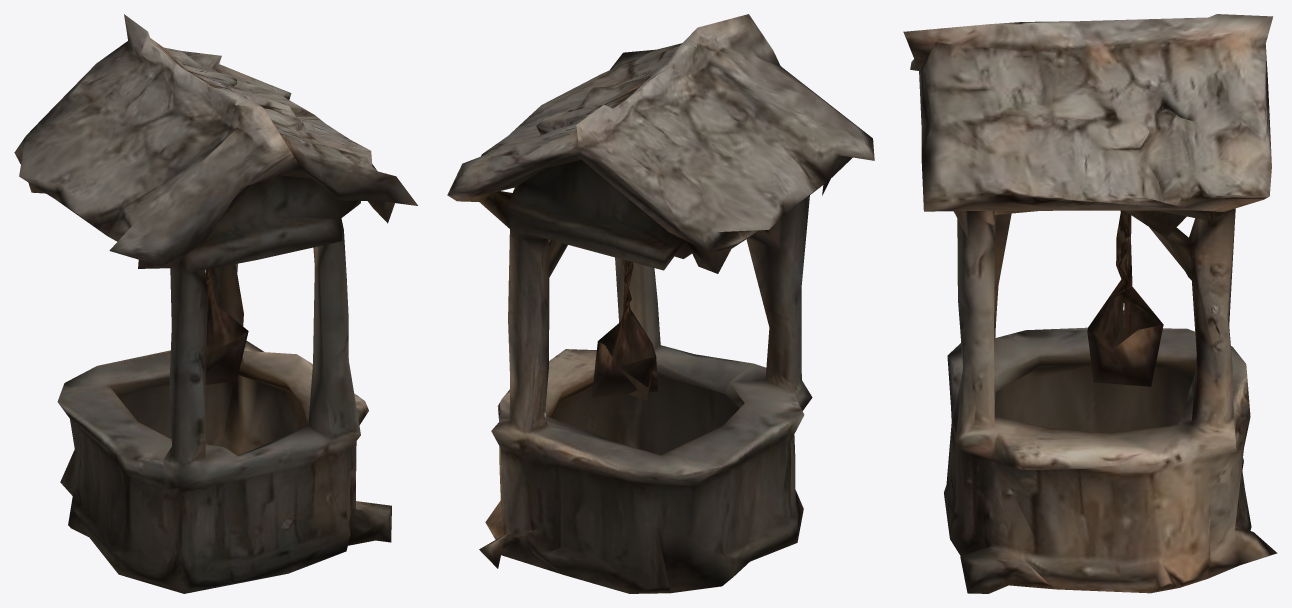
The model's file is e_well.glb.
The picture shows the model from 3 angles, left to right: view 1: azimuth 30°, elevation 25°; view 2: azimuth 150°, elevation 25°; view 3: azimuth 270°, elevation 25°; orthographic projection. The views are drawn at different scales.
Visible parts, largest first — view 1: tripo_node_b9f62591-d641-4ee1-bb34-90ddb02046e4; view 2: tripo_node_b9f62591-d641-4ee1-bb34-90ddb02046e4; view 3: tripo_node_b9f62591-d641-4ee1-bb34-90ddb02046e4.
Boxes of the visible parts, box(x1,y1,x2,y2) form: tripo_node_b9f62591-d641-4ee1-bb34-90ddb02046e4: box(14, 14, 417, 593); tripo_node_b9f62591-d641-4ee1-bb34-90ddb02046e4: box(447, 14, 874, 593); tripo_node_b9f62591-d641-4ee1-bb34-90ddb02046e4: box(903, 14, 1277, 593).
Size of the model in its own units: 0.6638 by 1 by 0.6614.
Materials: 1 (1 with a texture image).
